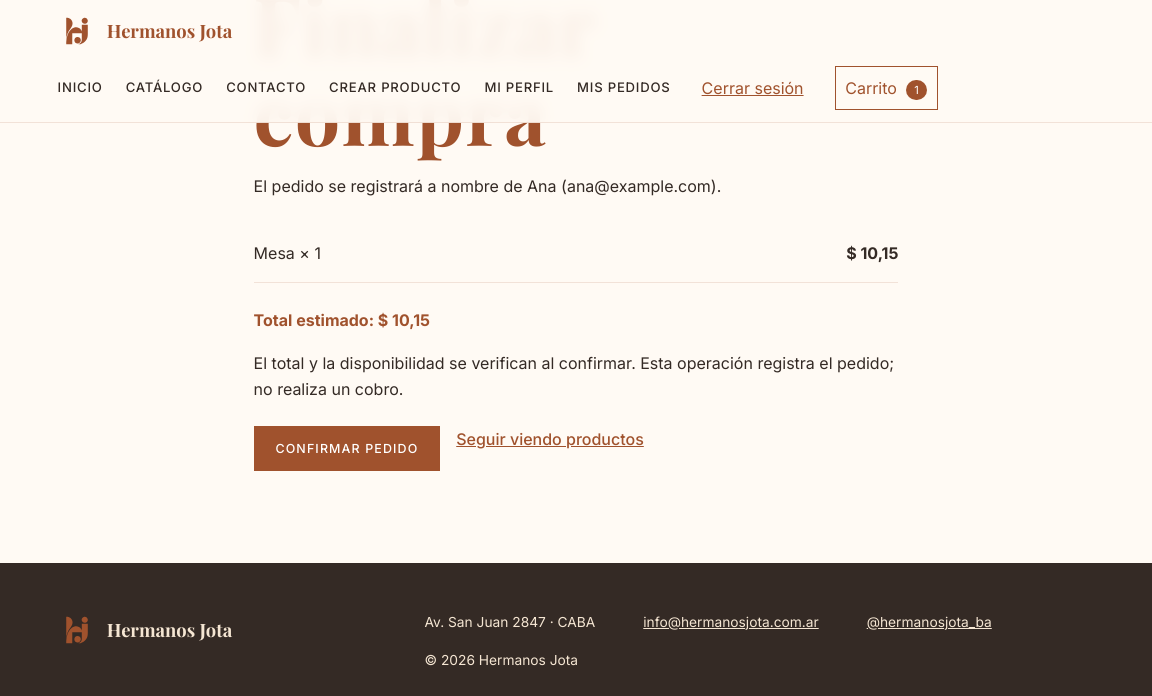
it: conserva carrito ante error de red
(page scrolled)
Click the button "Confirmar pedido" at (347,448), box [254,426,440,471]
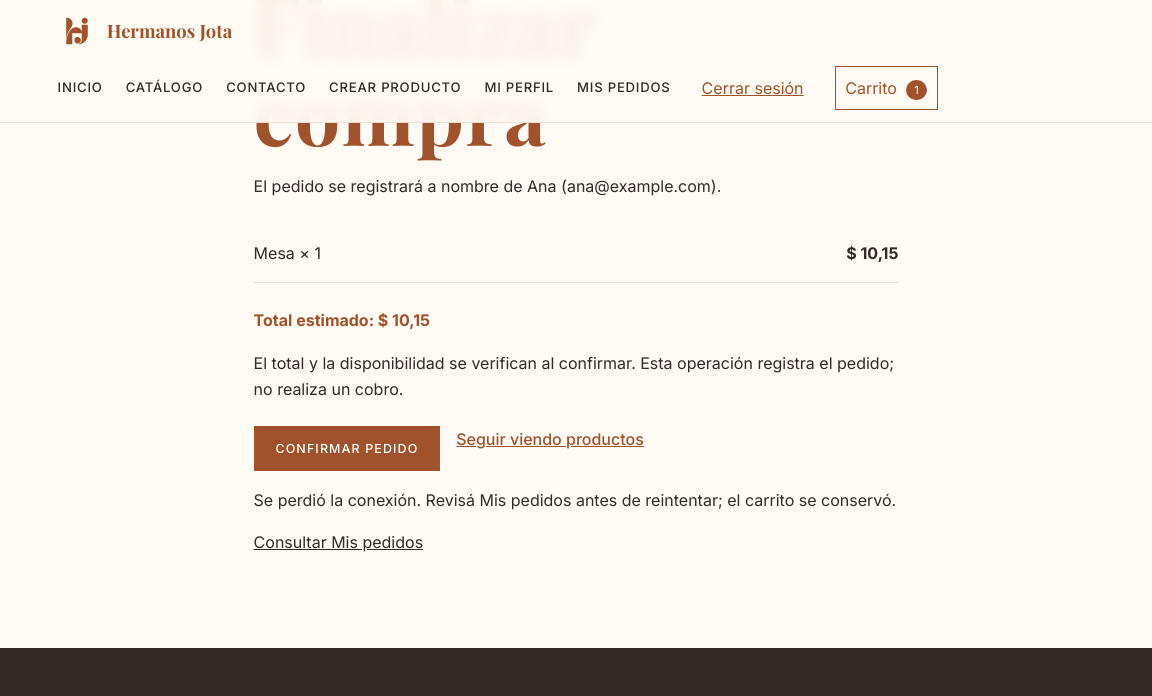
Check: the message is shown, box [254,487,898,555]
